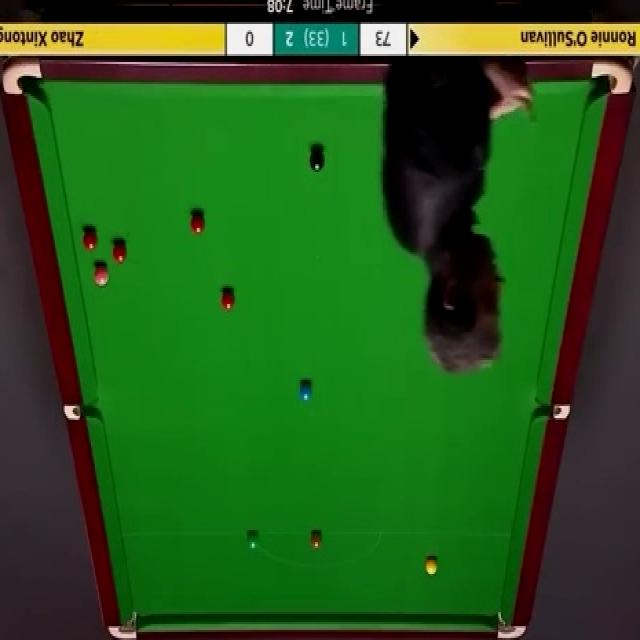black-ball: (309, 149, 325, 175)
blue-ball: (299, 378, 312, 404)
brown-ball: (309, 531, 323, 549)
green-ball: (245, 530, 260, 552)
pink-ball: (92, 262, 110, 288)
red-ball: (218, 284, 236, 312), (189, 208, 207, 233), (112, 241, 128, 264), (84, 227, 98, 251)
yellow-ball: (425, 555, 437, 574)
